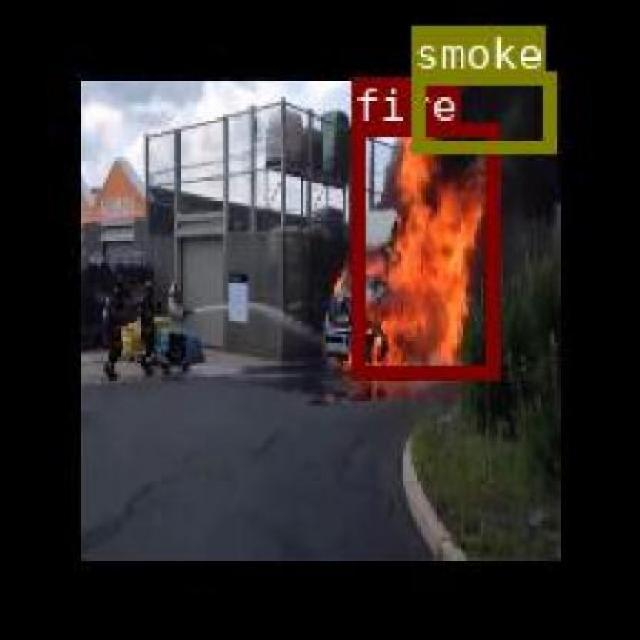Fire: (350, 120, 496, 377)
Smoke: (411, 71, 554, 151)
